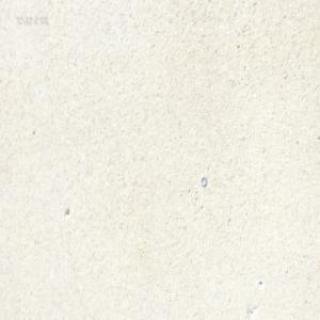Washertrack_idkeyframe: (200, 175, 207, 187)
